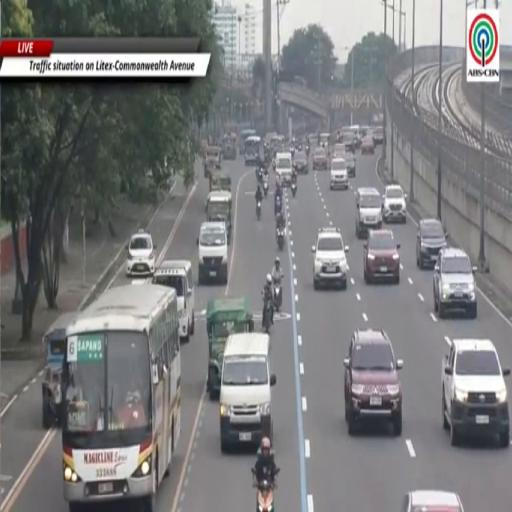bus: (62, 284, 181, 511), (244, 136, 262, 166), (239, 128, 255, 154)
car: (442, 340, 510, 447), (344, 329, 403, 436), (153, 261, 194, 342), (433, 248, 477, 318), (312, 228, 348, 290), (364, 230, 399, 283), (416, 219, 447, 268), (400, 490, 464, 511), (126, 230, 155, 276), (356, 187, 381, 237), (383, 185, 407, 222), (330, 158, 348, 189), (276, 153, 292, 186), (343, 152, 356, 178), (313, 147, 327, 170), (294, 151, 308, 173), (360, 136, 375, 154), (343, 132, 356, 152), (372, 126, 383, 146), (333, 143, 345, 158)
jeepney: (206, 297, 254, 399), (42, 312, 77, 428), (207, 190, 232, 244), (204, 147, 221, 178), (210, 171, 231, 191), (239, 130, 255, 154), (223, 134, 236, 159), (270, 135, 284, 157)
motorcycle: (252, 469, 279, 511), (262, 297, 273, 333), (273, 280, 282, 311), (276, 228, 284, 250), (275, 196, 282, 216), (256, 168, 263, 184), (256, 201, 261, 220), (263, 179, 268, 197), (291, 183, 296, 197), (290, 146, 294, 156), (306, 146, 309, 156), (273, 158, 275, 171)
